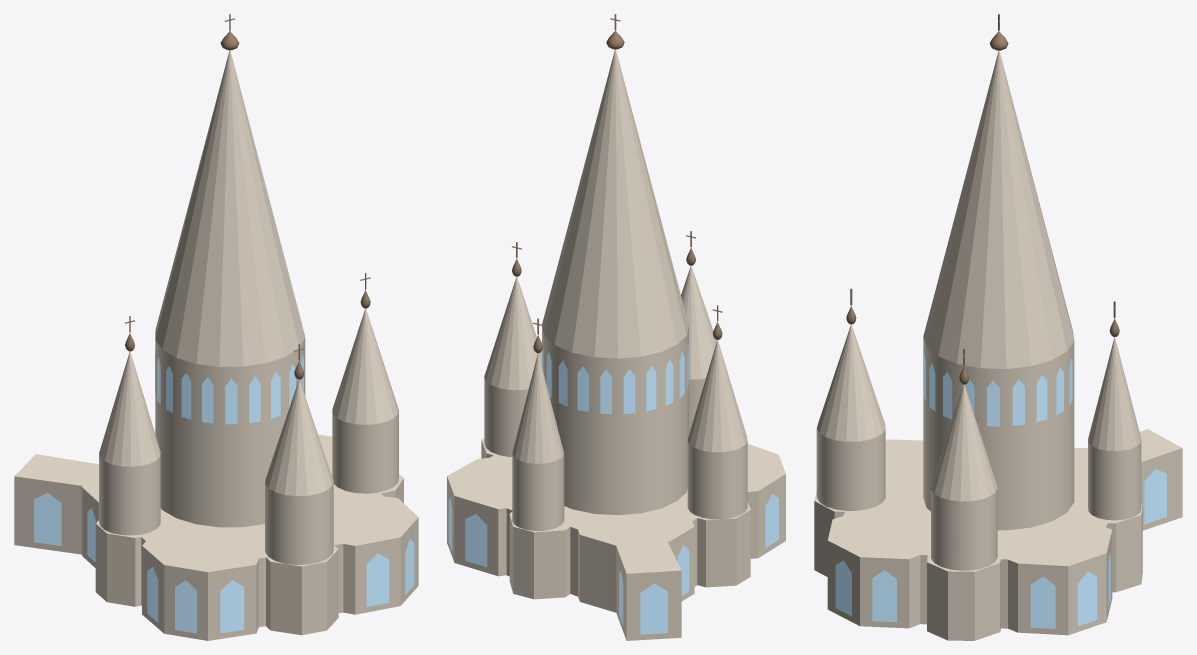
3 renders of one model, left to right at view 1: azimuth 30°, elevation 25°; view 2: azimuth 150°, elevation 25°; view 3: azimuth 270°, elevation 25°, orthographic. The views are drawn at different scales.
Visible parts, largest first — view 1: stone, window, metal; view 2: stone, window, metal; view 3: stone, window, metal.
Boxes of the visible parts, x1,y1,x2,y2 form: stone: (14, 50, 418, 640); window: (34, 351, 414, 633); metal: (125, 14, 370, 379); stone: (447, 49, 785, 640); window: (448, 342, 778, 634); metal: (511, 14, 722, 353); stone: (814, 50, 1182, 640); window: (835, 354, 1166, 628); metal: (846, 14, 1119, 384).
Size of the model in its own units: 26.59 by 48 by 28.97.
